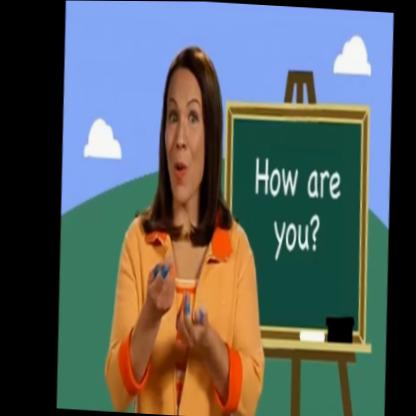HowAreYou: (130, 240, 225, 375)
